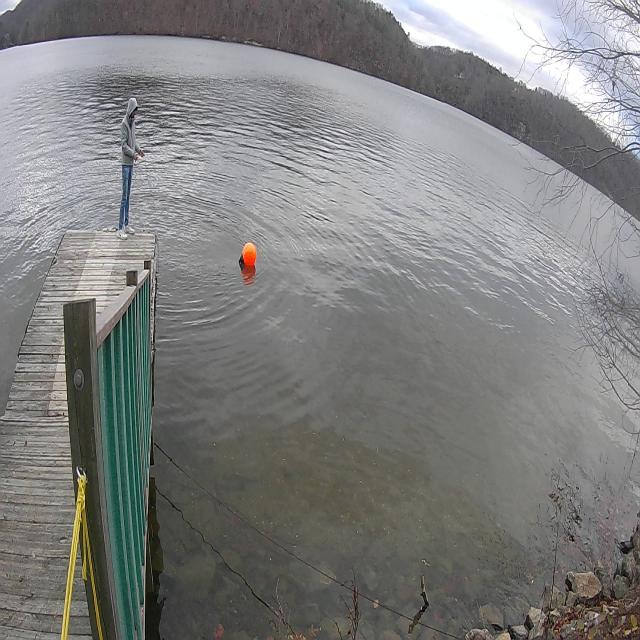Buoy: (240, 234, 259, 277)
